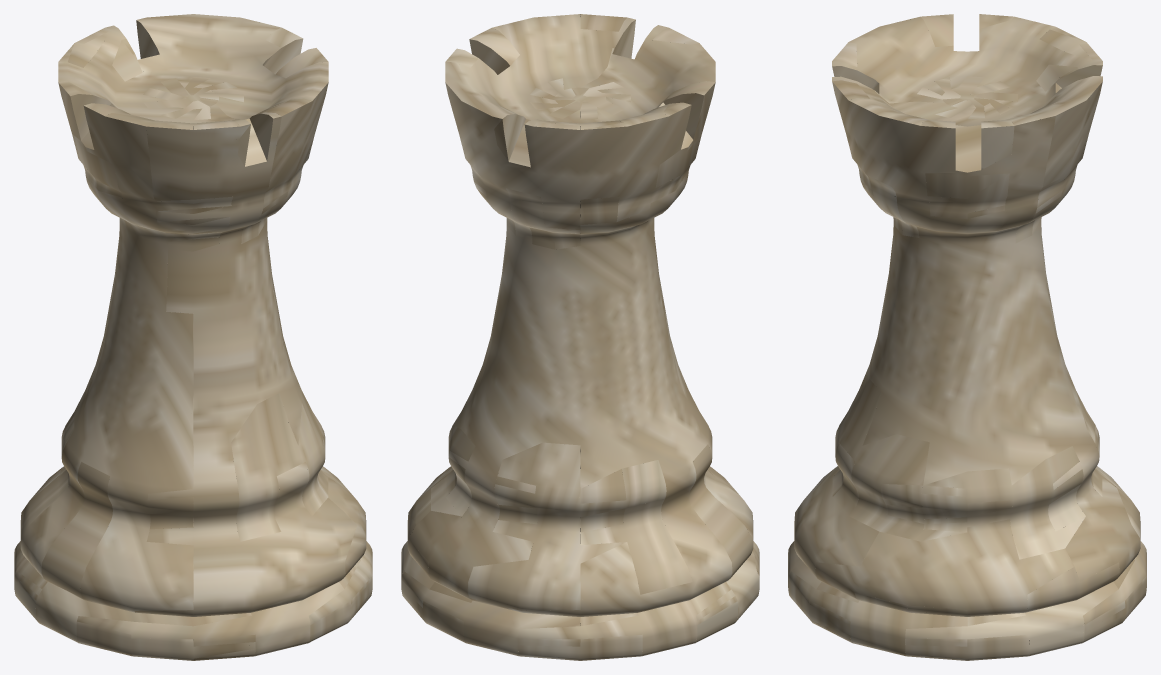
The model's file is Rook.obj.
3 views of the same model, side by side, from view 1: azimuth 30°, elevation 25°; view 2: azimuth 150°, elevation 25°; view 3: azimuth 270°, elevation 25° (orthographic).
Visible parts, largest first — view 1: chess.008; view 2: chess.008; view 3: chess.008.
Boxes of the visible parts, x1=… form: chess.008: x1=14, y1=14, x2=372, y2=660; chess.008: x1=401, y1=14, x2=759, y2=660; chess.008: x1=788, y1=14, x2=1146, y2=660.
Size of the model in its own units: 0.7904 by 1.24 by 0.7784.
